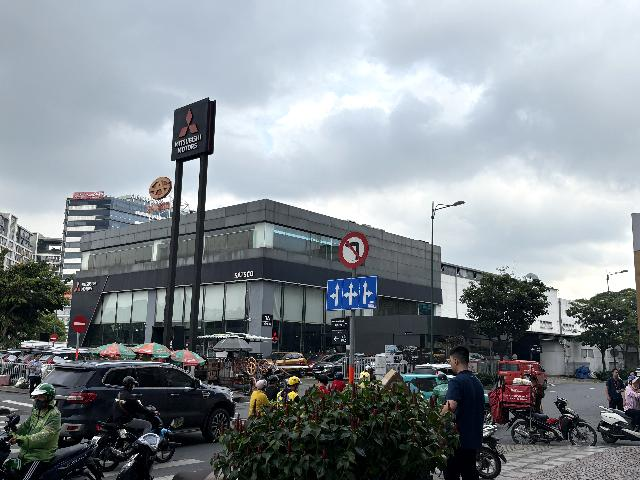cam-di-nguoc-chieu: (72, 314, 87, 333)
cam-re-trai: (339, 232, 369, 268)
